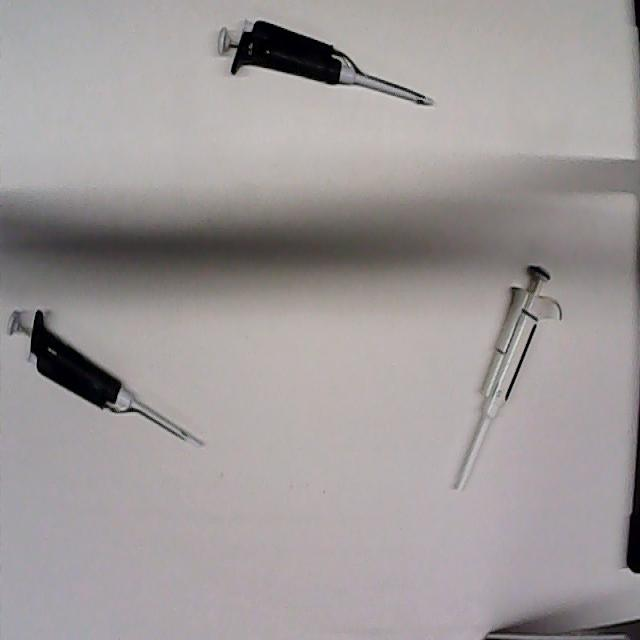Single Channel Pipettor: (6, 296, 205, 451), (455, 260, 566, 490), (216, 18, 437, 110)
